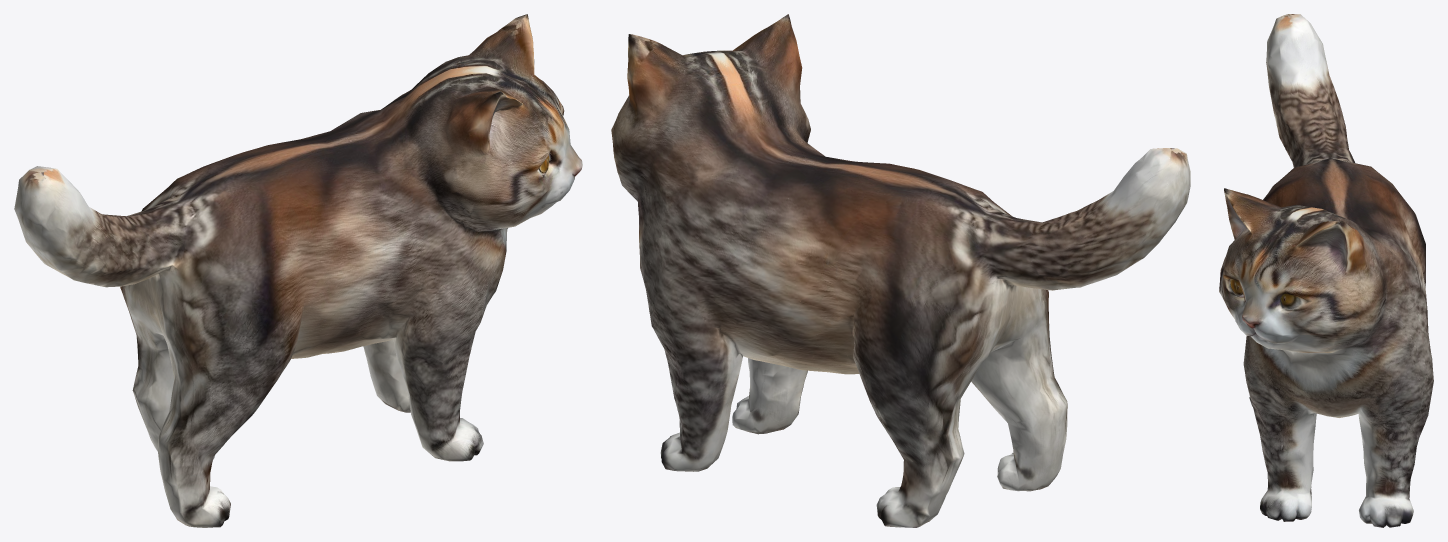
File: EVERLOOP.glb
3 views of the same model, side by side, from view 1: azimuth 30°, elevation 25°; view 2: azimuth 150°, elevation 25°; view 3: azimuth 270°, elevation 25° (orthographic). The views are drawn at different scales.
Parts seen in each view (by area): view 1: fit; view 2: fit; view 3: fit.
Boxes of the visible parts, x1,y1,x2,y2 form: fit: (14, 14, 582, 527); fit: (611, 14, 1190, 527); fit: (1219, 14, 1433, 527).
Size of the model in its own units: 1.47 by 1 by 0.5786.
1 material, 1 textured.
